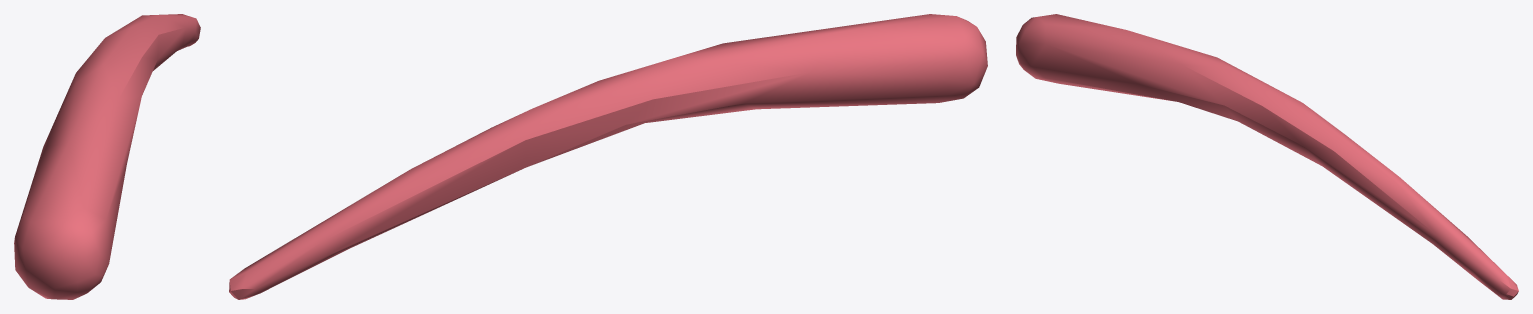
Rendered from fma13281_fj5983.glb.
3 views of the same model, side by side, from view 1: azimuth 30°, elevation 25°; view 2: azimuth 150°, elevation 25°; view 3: azimuth 270°, elevation 25° (orthographic). The views are drawn at different scales.
Parts seen in each view (by area): view 1: FMA13281_FJ5983; view 2: FMA13281_FJ5983; view 3: FMA13281_FJ5983.
Boxes of the visible parts, <box> form: FMA13281_FJ5983: <box>14,14,200,299</box>; FMA13281_FJ5983: <box>229,14,987,299</box>; FMA13281_FJ5983: <box>1016,14,1518,299</box>.
Bounding box in the file's own units: 0.017 × 0.00617 × 0.0208.
